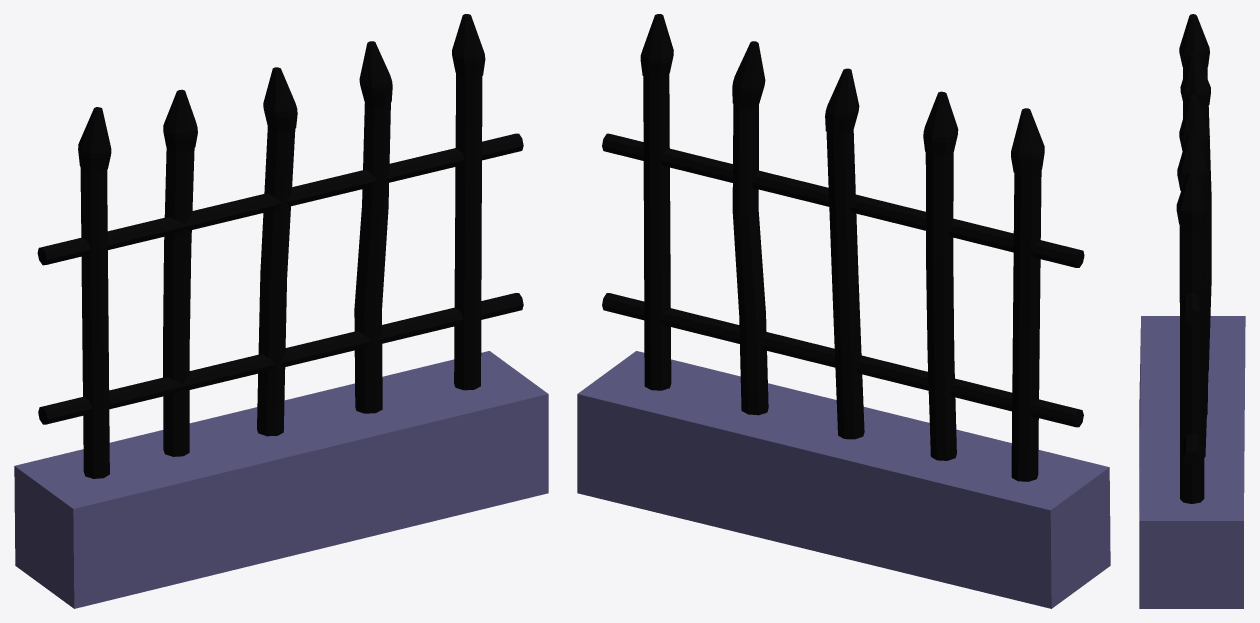
Rendered from Fence_Metal_03.fbx.
The picture shows the model from 3 angles, left to right: view 1: azimuth 30°, elevation 25°; view 2: azimuth 150°, elevation 25°; view 3: azimuth 270°, elevation 25°; orthographic projection. The views are drawn at different scales.
Parts seen in each view (by area): view 1: Fence_03; view 2: Fence_03; view 3: Fence_03.
Boxes of the visible parts, bbox=[...] form: Fence_03: bbox=[14, 14, 548, 608]; Fence_03: bbox=[577, 14, 1110, 608]; Fence_03: bbox=[1139, 14, 1245, 608].
Bounding box in the file's own units: 200 × 189 × 43.79.
